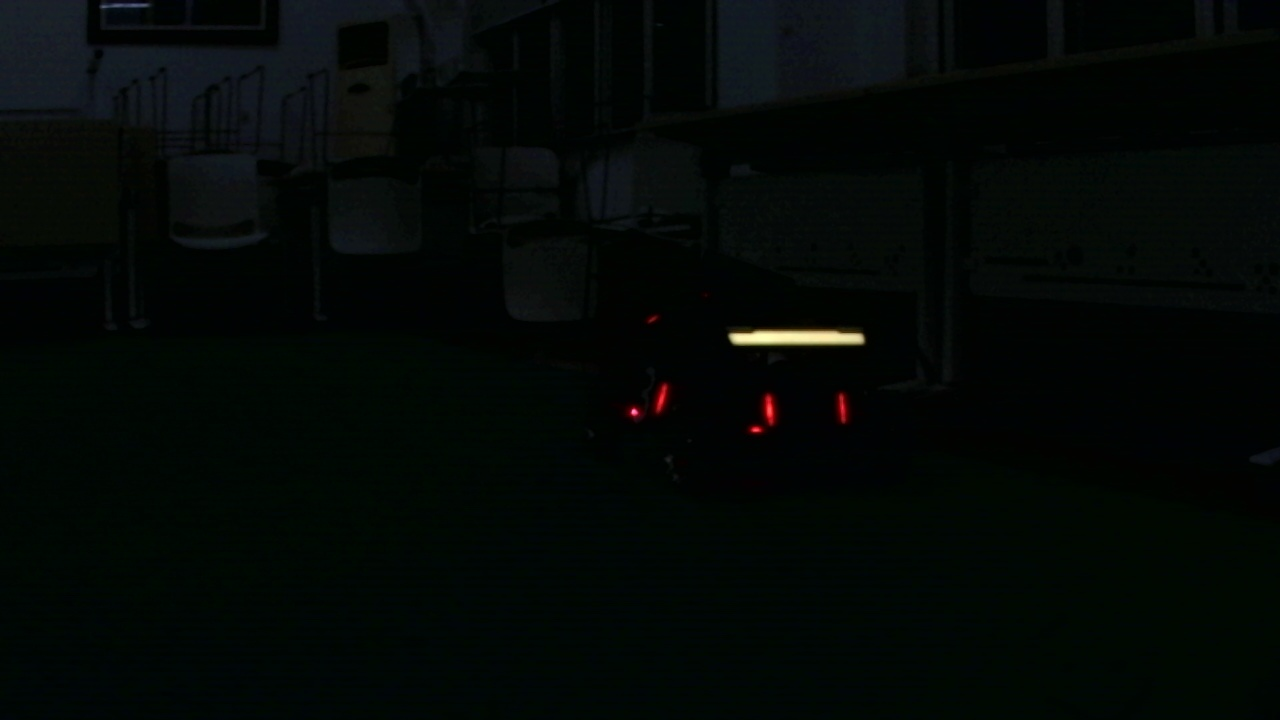lamp: (833, 389, 850, 423), (655, 377, 669, 412), (761, 392, 774, 426)
pair1: (763, 392, 848, 422)
